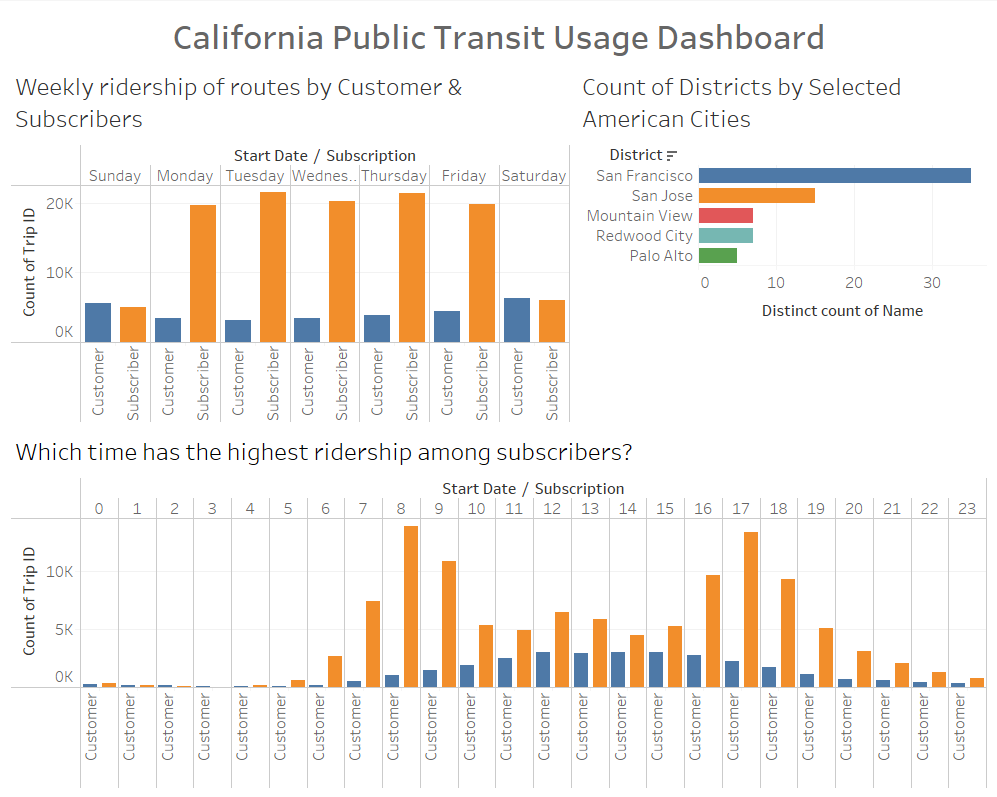

Layout of this report page (visuals, bound fields, positions):
{"tool":"tableau","page":{"name":"California Public Transit w","canvas":[1000,800],"ordinal":0},"visuals":[{"type":"title","box":[8,8,984,53]},{"type":"worksheet","title":"Weekly ridership of routes by Customer & Subscribers","mark":"Automatic","rows":["Trip ID"],"cols":["Start Date","Subscription"],"box":[8,61,567,365.5]},{"type":"worksheet","title":"Sheet 1","mark":"Automatic","rows":["district"],"cols":["name"],"box":[575,61,417,365.5]},{"type":"worksheet","title":"time has the highest ridership among subscribers?","mark":"Automatic","rows":["Trip ID"],"cols":["Start Date","Subscription"],"box":[8,426.5,984,365.5]}]}

Visuals, with their boxes in screenshot pixels (x1, y1, x2, y2), scaled from the page's 1000x800 canvas onto the 997x797 screenshot:
title: 8,8,989,61
"Weekly ridership of routes by Customer & Subscribers" worksheet: 8,61,573,425
"Sheet 1" worksheet: 573,61,989,425
"time has the highest ridership among subscribers?" worksheet: 8,425,989,789
